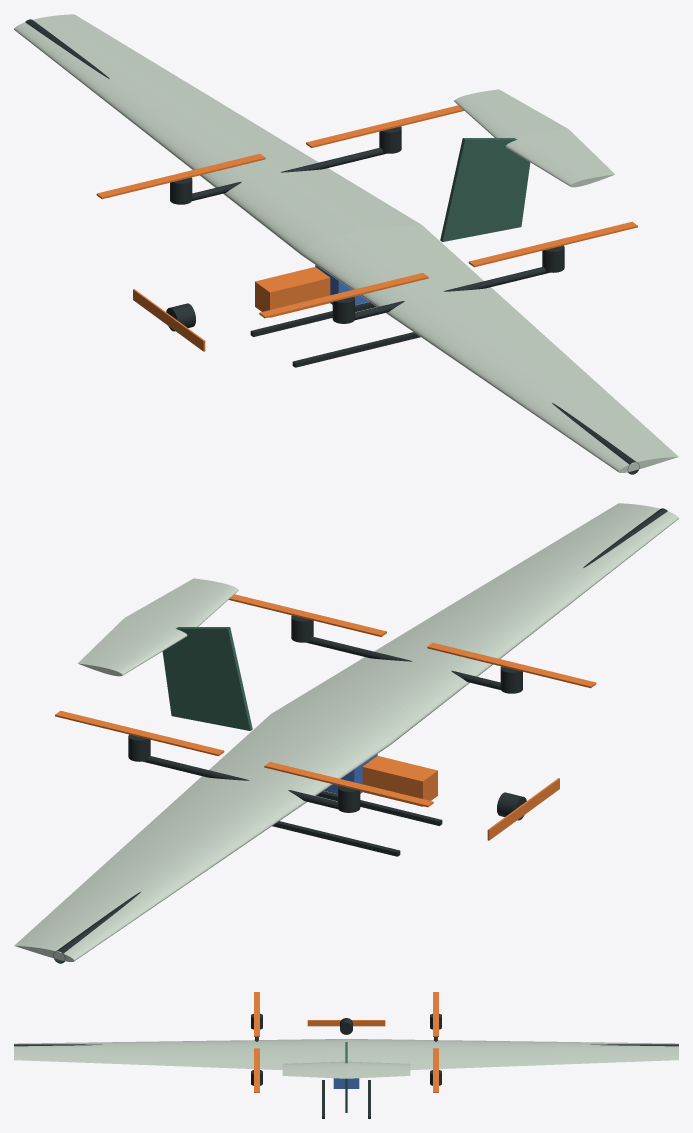
Rendered from 04-internal.glb.
3 views of the same model, one above another, from view 1: azimuth 30°, elevation 25°; view 2: azimuth 150°, elevation 25°; view 3: azimuth 270°, elevation 25° (orthographic). The views are drawn at different scales.
Parts seen in each view (by area): view 1: wing-1, wing1, fin, tail-1, tail1, battery, prop_-1_180.0, prop_-1_700.0, prop_1_180.0, prop_1_700.0, boom1, boom-1 (+4 smaller); view 2: wing1, wing-1, fin, tail1, tail-1, battery, prop_1_180.0, prop_1_700.0, prop_-1_180.0, prop_-1_700.0, boom-1, boom1 (+4 smaller); view 3: wing-1, wing1, tail-1, tail1, cruise_prop, wing_spar, payload, prop_-1_180.0, prop_-1_700.0, prop_1_180.0, prop_1_700.0.
Part boxes in pixels (bbox=[...]): wing-1: bbox=[301, 225, 678, 472]; wing1: bbox=[14, 14, 421, 254]; fin: bbox=[440, 138, 530, 241]; tail-1: bbox=[505, 129, 614, 187]; tail1: bbox=[454, 89, 567, 138]; battery: bbox=[255, 267, 330, 317]; prop_-1_180.0: bbox=[259, 273, 428, 318]; prop_-1_700.0: bbox=[468, 221, 637, 267]; prop_1_180.0: bbox=[96, 153, 265, 199]; prop_1_700.0: bbox=[306, 105, 464, 147]; boom1: bbox=[192, 147, 386, 200]; boom-1: bbox=[355, 267, 549, 320]; wing1: bbox=[14, 714, 391, 961]; wing-1: bbox=[271, 503, 678, 743]; fin: bbox=[162, 627, 252, 730]; tail1: bbox=[78, 618, 187, 676]; tail-1: bbox=[125, 578, 238, 627]; battery: bbox=[362, 756, 437, 806]; prop_1_180.0: bbox=[264, 762, 433, 807]; prop_1_700.0: bbox=[55, 710, 224, 756]; prop_-1_180.0: bbox=[427, 642, 596, 688]; prop_-1_700.0: bbox=[228, 594, 386, 636]; boom-1: bbox=[306, 636, 500, 689]; boom1: bbox=[143, 756, 337, 809]; wing-1: bbox=[14, 1039, 346, 1070]; wing1: bbox=[346, 1039, 678, 1070]; tail-1: bbox=[282, 1061, 346, 1078]; tail1: bbox=[346, 1061, 410, 1078]; cruise_prop: bbox=[307, 1020, 385, 1026]; wing_spar: bbox=[14, 1044, 678, 1046]; payload: bbox=[333, 1078, 359, 1088]; prop_-1_180.0: bbox=[254, 992, 259, 1036]; prop_-1_700.0: bbox=[254, 1048, 259, 1092]; prop_1_180.0: bbox=[433, 992, 438, 1036]; prop_1_700.0: bbox=[433, 1048, 438, 1092].
Bounding box in the file's own units: 994 × 394 × 2600.
